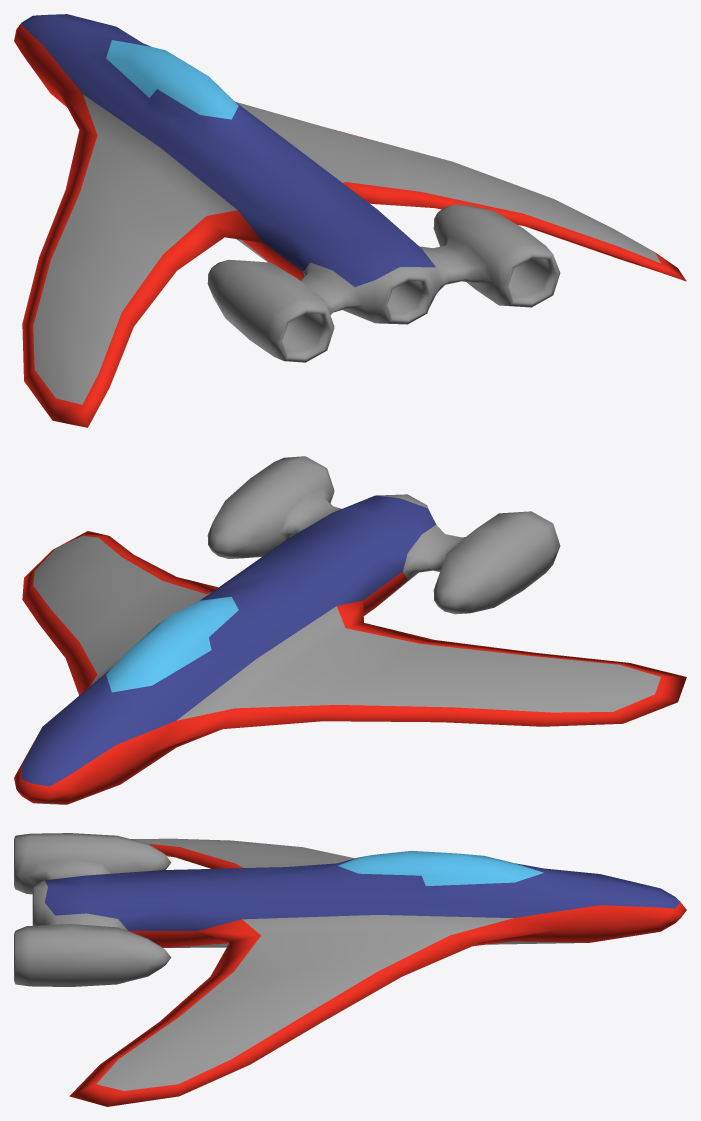
The model's file is StarFighter.FBX.
3 views of the same model, one above another, from view 1: azimuth 30°, elevation 25°; view 2: azimuth 150°, elevation 25°; view 3: azimuth 270°, elevation 25° (orthographic). The views are drawn at different scales.
Visible parts, largest first — view 1: Box01; view 2: Box01; view 3: Box01.
Boxes of the visible parts, x1=… form: Box01: x1=14, y1=14, x2=686, y2=427; Box01: x1=14, y1=456, x2=686, y2=804; Box01: x1=14, y1=833, x2=686, y2=1106.
Bounding box in the file's own units: 119 × 25.28 × 129.
